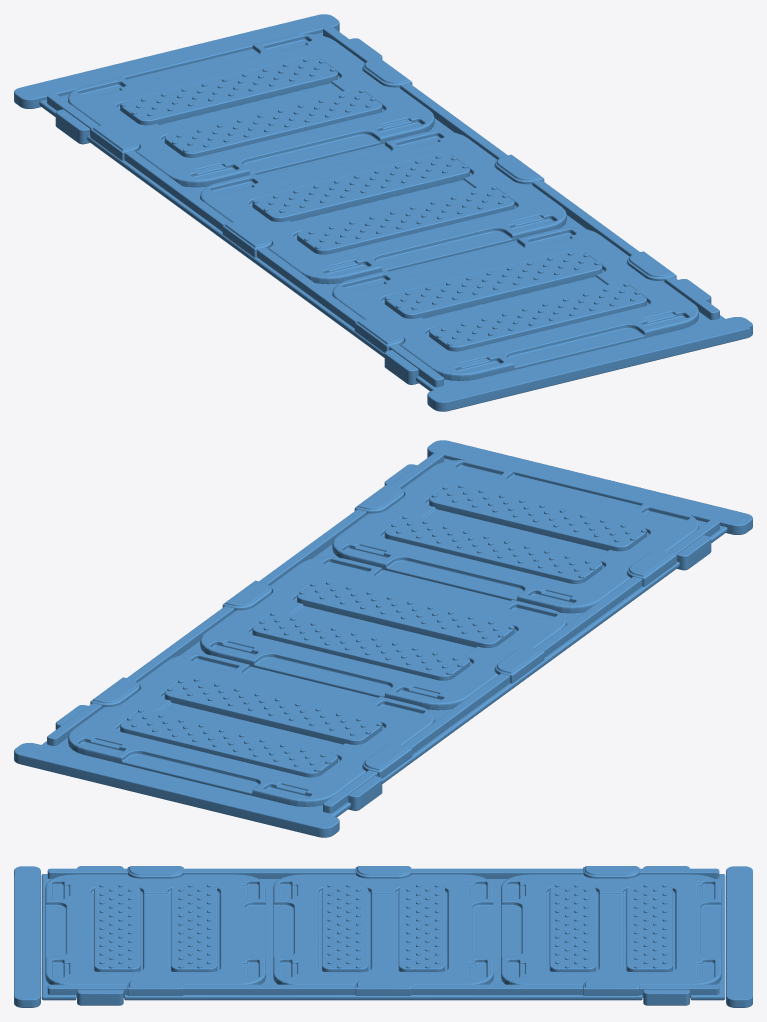
Rendered from Floor.FBX.
3 views of the same model, one above another, from view 1: azimuth 30°, elevation 25°; view 2: azimuth 150°, elevation 25°; view 3: azimuth 270°, elevation 25° (orthographic). The views are drawn at different scales.
Parts seen in each view (by area): view 1: Floor; view 2: Floor; view 3: Floor.
Boxes of the visible parts, x1,y1,x2,y2 form: Floor: (14, 14, 752, 411); Floor: (14, 440, 752, 837); Floor: (14, 866, 752, 1007).
Bounding box in the file's own units: 330 × 18.93 × 770.
